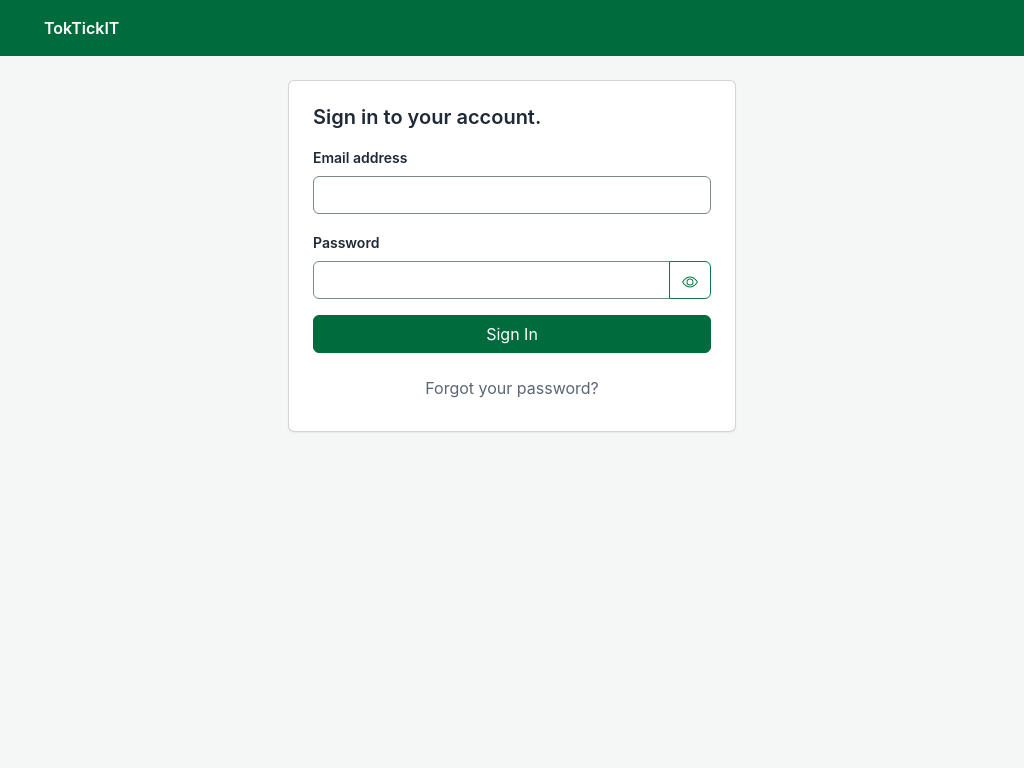
LoginPage › shows the distinct deactivated-account message
The image size is (1024, 768).
Type "gone@toktickit.local" into the field labelled "Email address" at (512, 195), box [313,176,711,214]
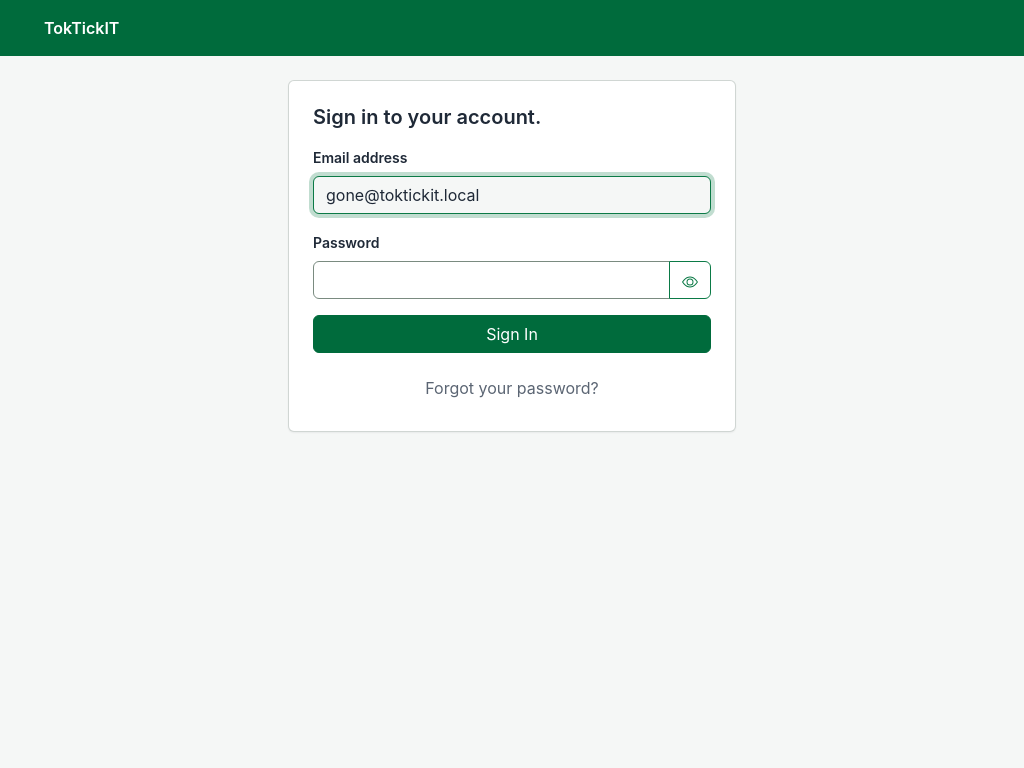
Type "Whatever1!" into the password field labelled "Password" at (492, 280), box [313,261,670,299]
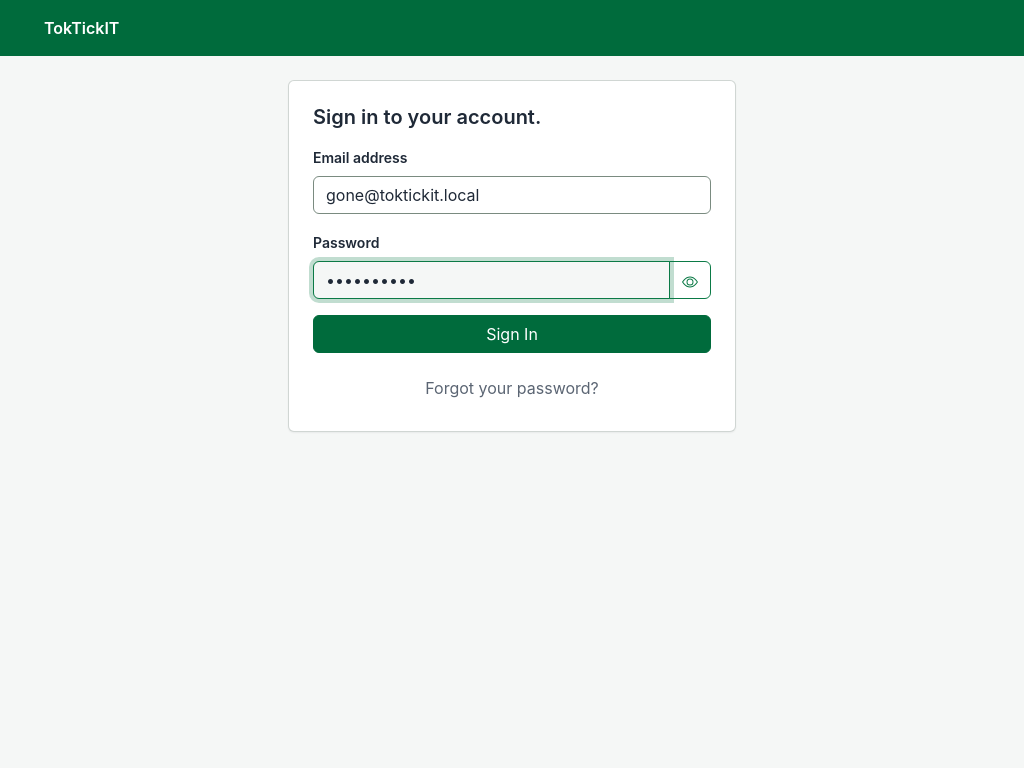
Click the button "Sign In" at (512, 334), box [313,315,711,353]
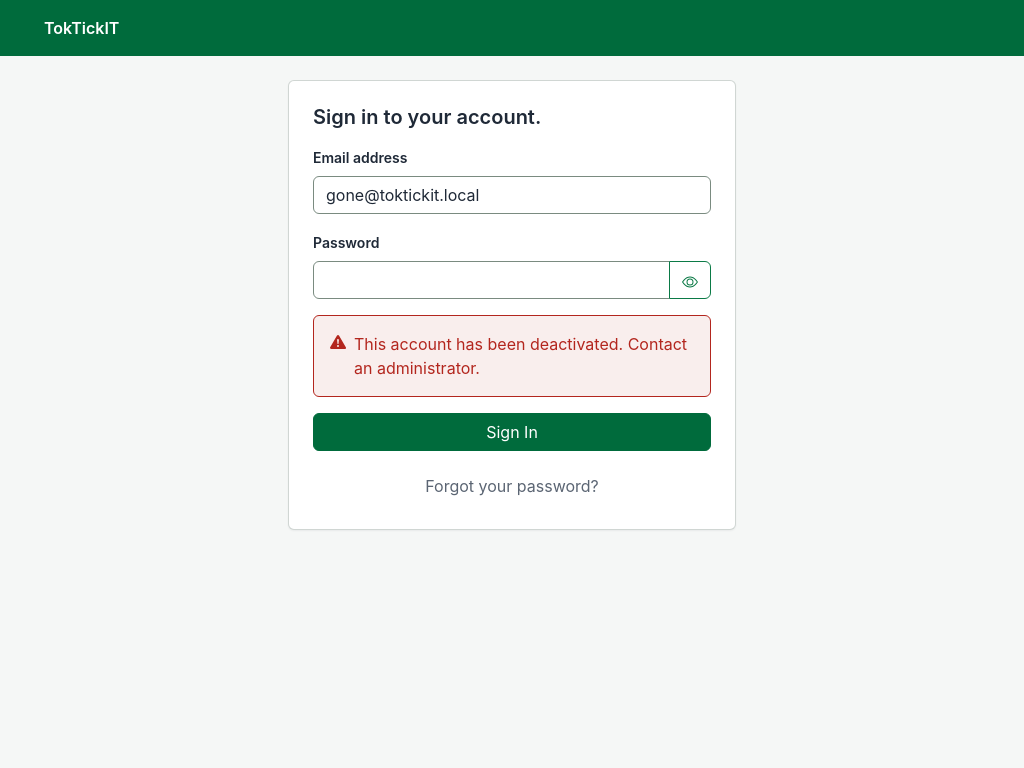
Check: the message shows "deactivated", box [354,334,687,378]
